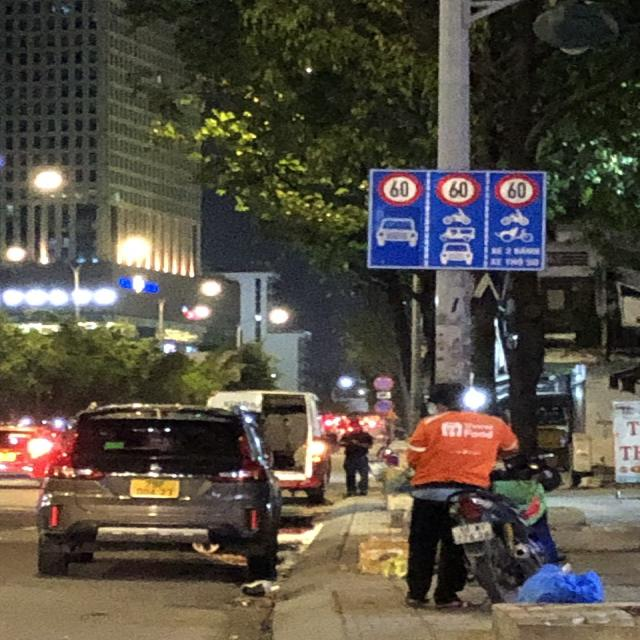Bien bao toc do toi da cho phep: (493, 169, 545, 210), (377, 169, 425, 209), (435, 168, 483, 208)
